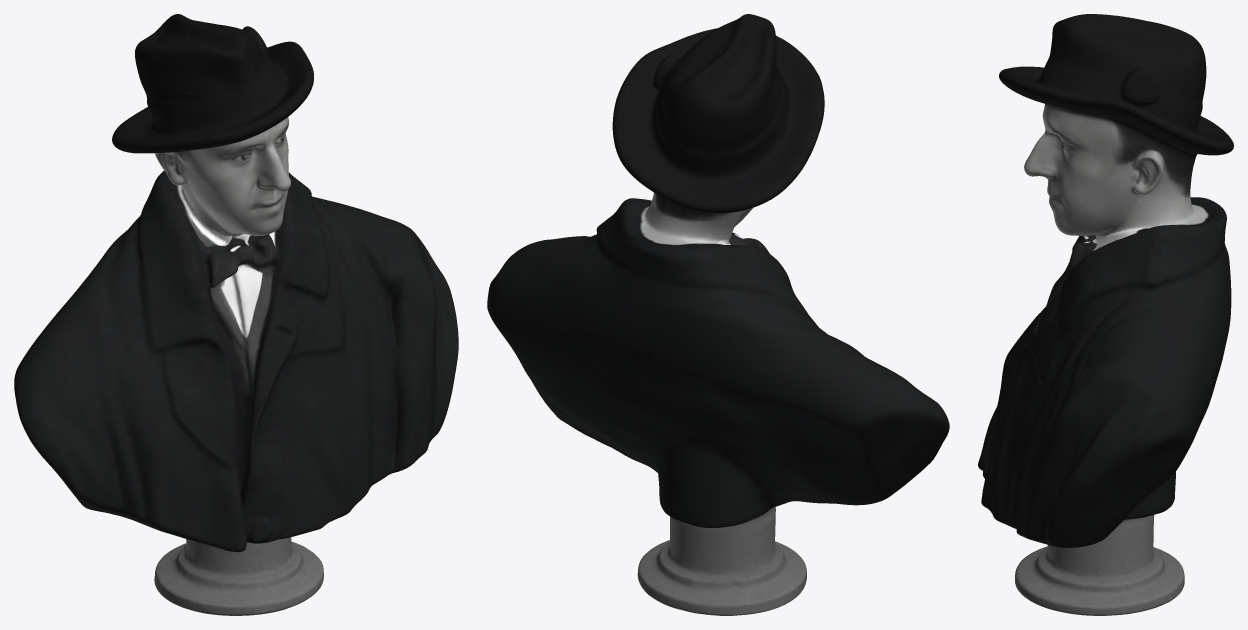
Rendered from Mikhail Bulgakov.glb.
3 renders of one model, left to right at view 1: azimuth 30°, elevation 25°; view 2: azimuth 150°, elevation 25°; view 3: azimuth 270°, elevation 25°, orthographic.
Size of the model in its own units: 1.54 by 1.9 by 0.7863.
1 material, 1 textured.
